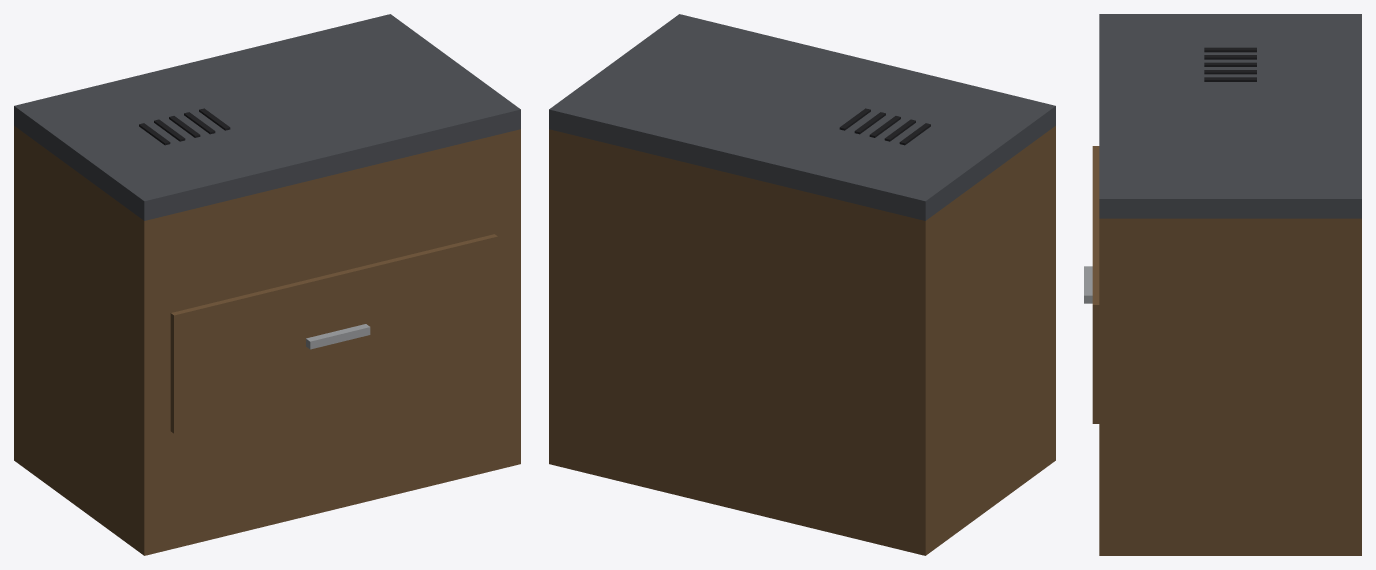
File: counter_block.glb
The picture shows the model from 3 angles, left to right: view 1: azimuth 30°, elevation 25°; view 2: azimuth 150°, elevation 25°; view 3: azimuth 270°, elevation 25°; orthographic projection.
Parts seen in each view (by area): view 1: counter_block; view 2: counter_block; view 3: counter_block.
Boxes of the visible parts, left/top/right/bottom form: counter_block: left=14, top=14, right=520, bottom=555; counter_block: left=549, top=14, right=1055, bottom=555; counter_block: left=1084, top=14, right=1361, bottom=555.
Size of the model in its own units: 1 by 0.905 by 0.635.
